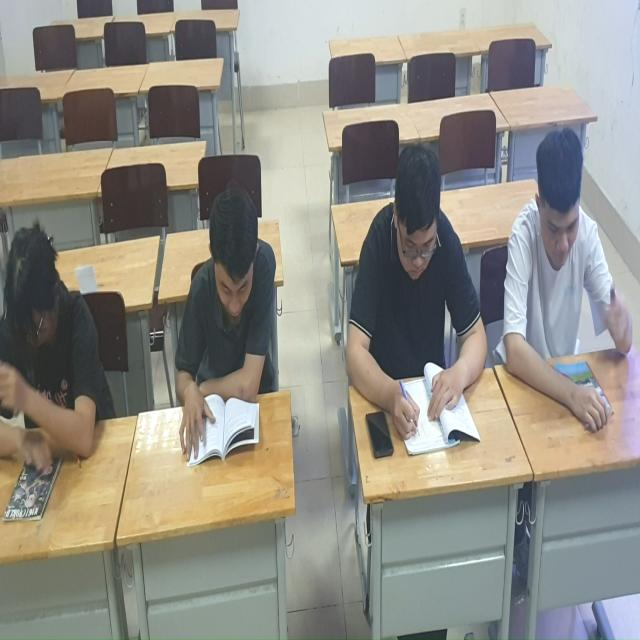raise_hand: (1, 245, 114, 474)
read: (345, 140, 491, 467), (500, 120, 640, 434), (170, 182, 283, 470)
